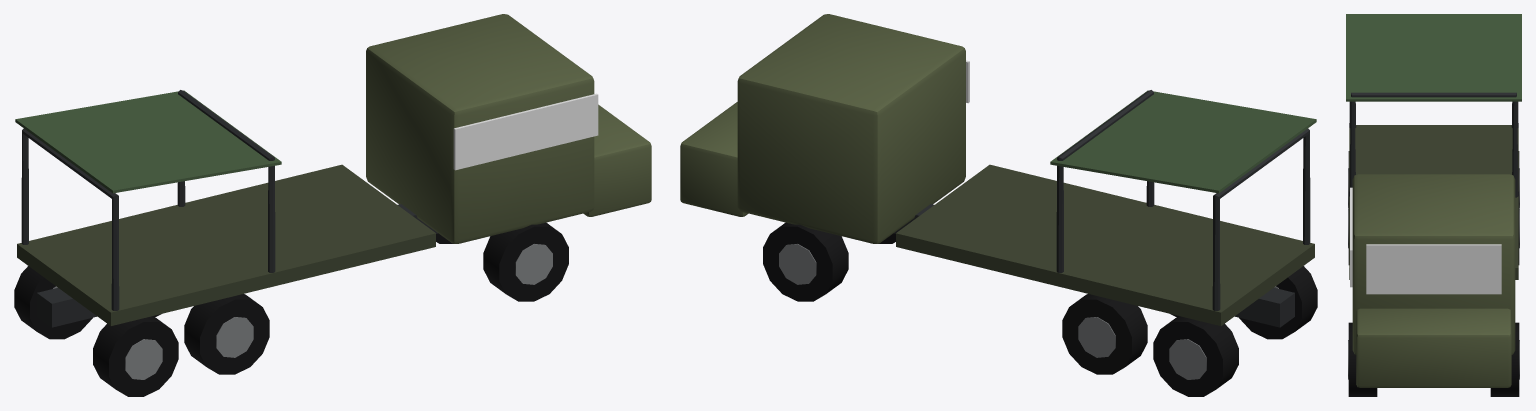
File: wreck-truck.glb
The picture shows the model from 3 angles, left to right: view 1: azimuth 30°, elevation 25°; view 2: azimuth 150°, elevation 25°; view 3: azimuth 270°, elevation 25°; orthographic projection. The views are drawn at different scales.
Parts seen in each view (by area): view 1: Piece_lod0; view 2: Piece_lod0; view 3: Piece_lod0.
Boxes of the visible parts, <box> form: Piece_lod0: <box>14,14,651,396</box>; Piece_lod0: <box>680,14,1317,396</box>; Piece_lod0: <box>1346,14,1521,396</box>.
Size of what is drawn, in the model's own units: 8.7 by 3.16 by 2.6.
